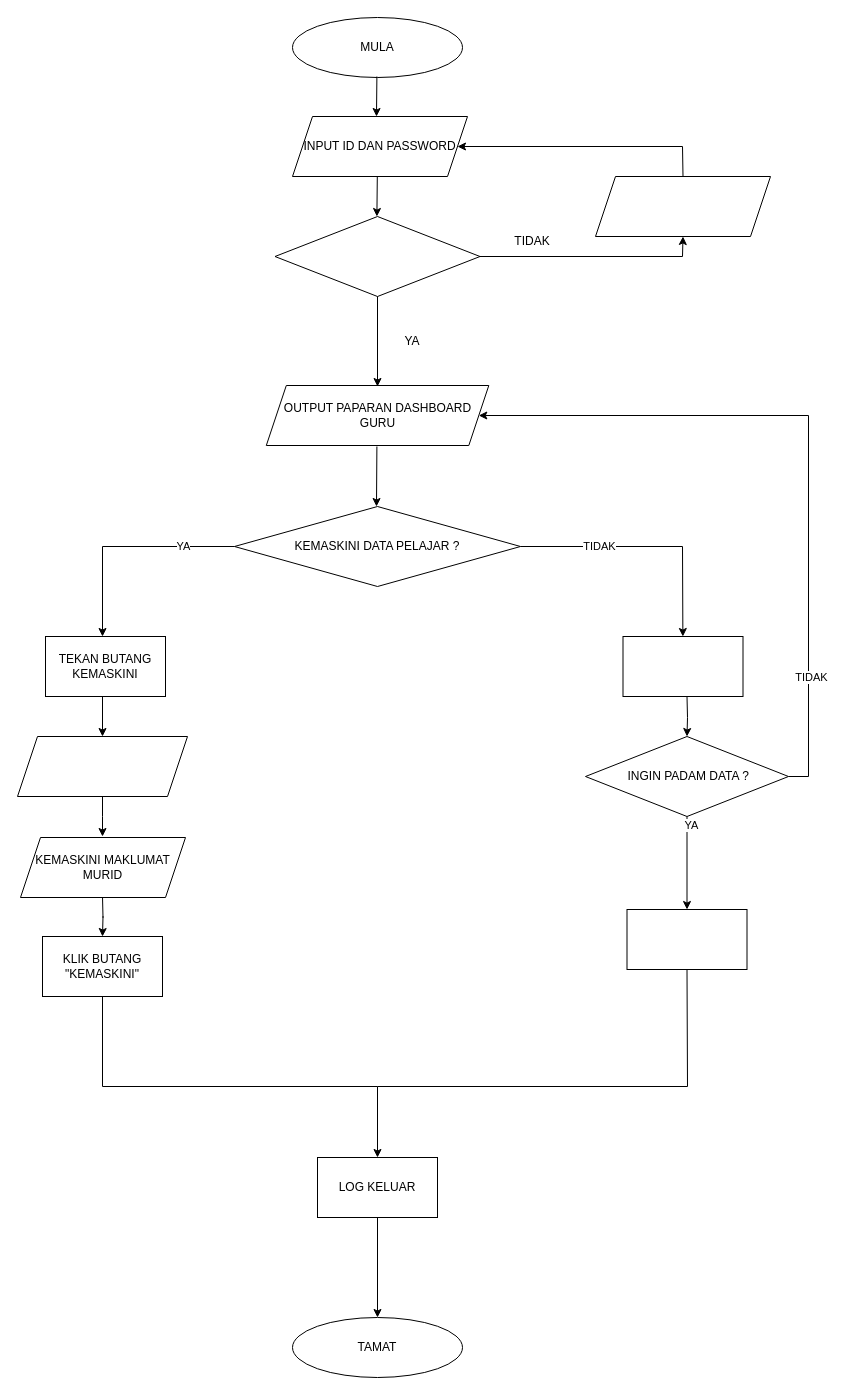
This 844x1395 diagram has some shape labels left out. Each missing label, with the centre of its shape:
BUTANG PADAM: pixel 682 666
ID DAN PASSWORD BETUL: pixel 377 256
OUTPUT "SALAH ID ATAU PASSWORD": pixel 682 206
OUTPUT BORANG KEMASKINI MAKLUMAT MURID: pixel 102 766
PADAM MAKLUMAT MURID BERJAYA: pixel 686 939
